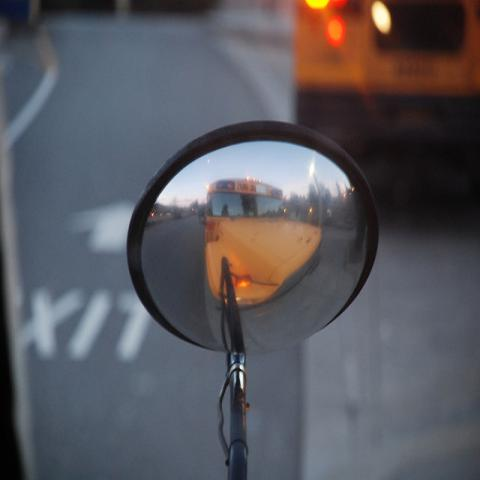bus: (203, 175, 320, 320)
